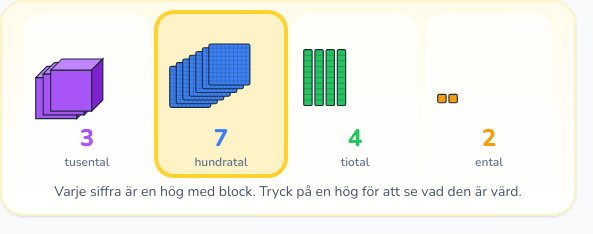
the pictures to try with › base-ten blocks: the asked place is lit, and a pile says what it is
Click the button "7 hundratal" at (221, 94), box [158,14,284,174]
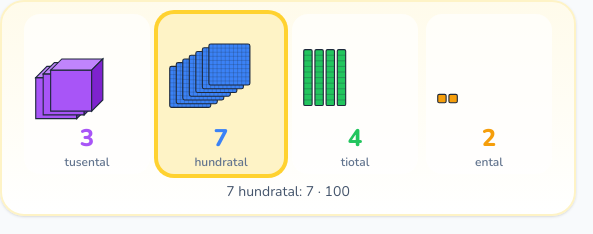
Check: the text "7 hundratal: 7 · 100" is shown, box [226,182,350,202]
